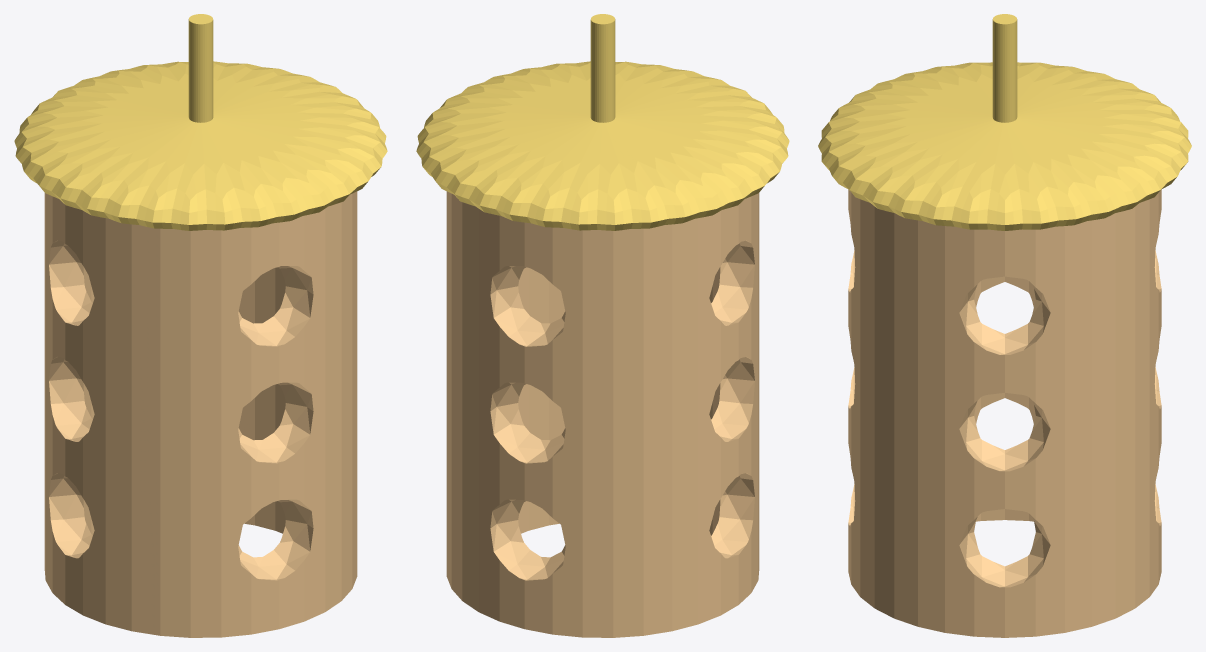
The model's file is chand_4.fbx.
3 views of the same model, side by side, from view 1: azimuth 30°, elevation 25°; view 2: azimuth 150°, elevation 25°; view 3: azimuth 270°, elevation 25° (orthographic).
Visible parts, largest first — view 1: vetro, Supporto; view 2: vetro, Supporto; view 3: vetro, Supporto.
Boxes of the visible parts, box(x1,y1,x2,y2) form: vetro: box(44, 191, 357, 637); Supporto: box(14, 14, 387, 230); vetro: box(446, 191, 759, 637); Supporto: box(416, 14, 789, 230); vetro: box(848, 189, 1161, 637); Supporto: box(818, 14, 1191, 230).
Bounding box in the file's own units: 239 × 389 × 239.
